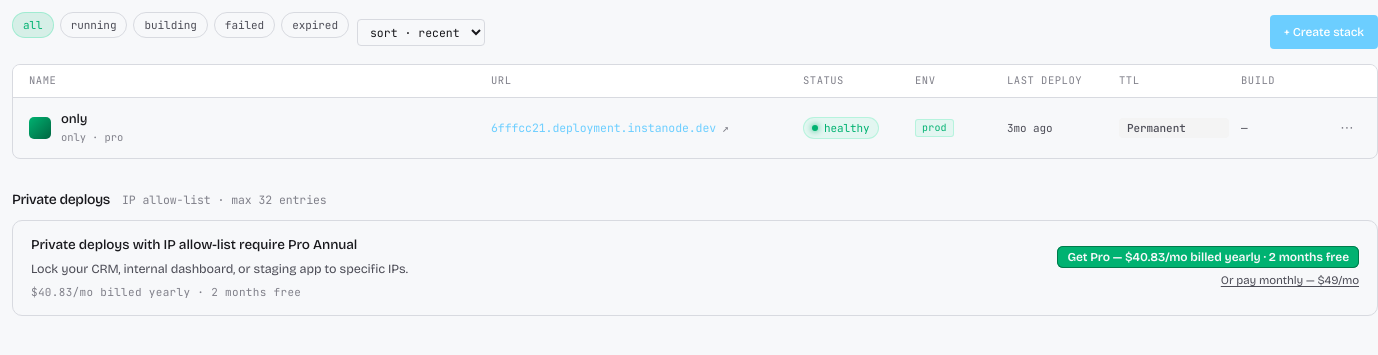
Scenario: DeploymentsPage — filter + sort › shows the no-match empty state when the filter matches nothing
Expected: the text "only" is shown, [61,111,87,127]
Click the button with test id "status-filter-failed": (244, 25) [214,12,275,38]
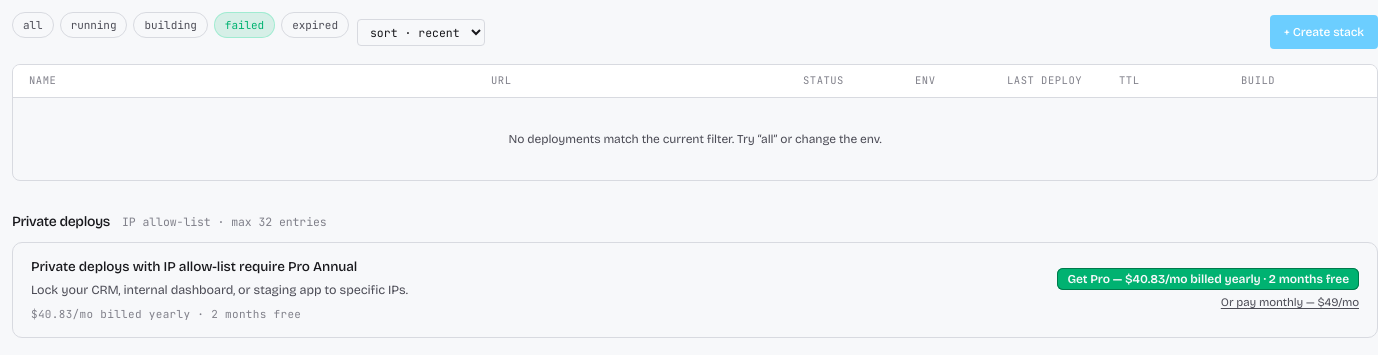
Result: the element with test id "deployments-no-match" is shown at [508,132,882,146]
